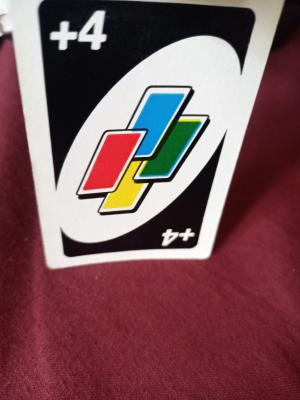wild-4: (10, 2, 292, 268), (72, 70, 215, 221)
